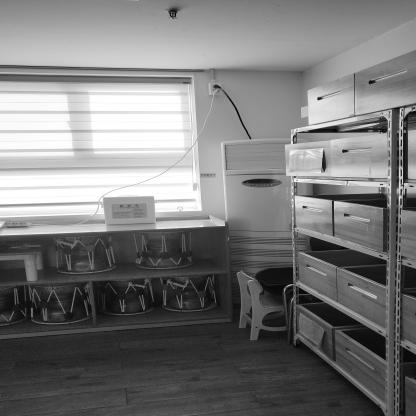DDL: (103, 195, 156, 225)
